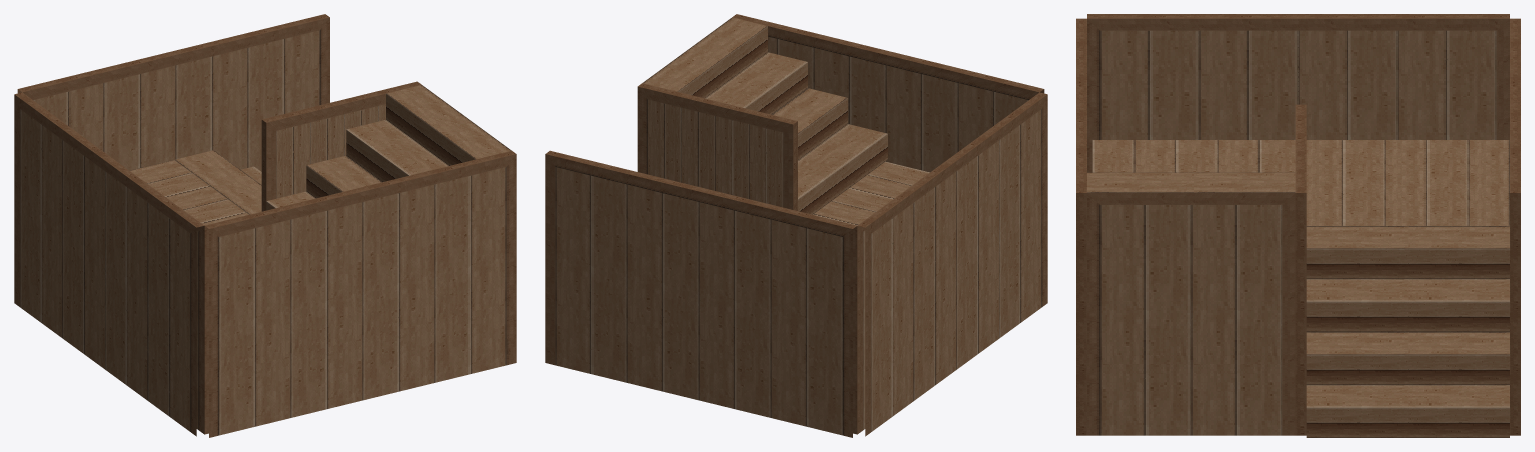
Rendered from kaidan_03.fbx.
The picture shows the model from 3 angles, left to right: view 1: azimuth 30°, elevation 25°; view 2: azimuth 150°, elevation 25°; view 3: azimuth 270°, elevation 25°; orthographic projection. The views are drawn at different scales.
Visible parts, largest first — view 1: kaidan_03; view 2: kaidan_03; view 3: kaidan_03.
Boxes of the visible parts, x1=… form: kaidan_03: x1=14, y1=14, x2=516, y2=437; kaidan_03: x1=545, y1=14, x2=1047, y2=437; kaidan_03: x1=1076, y1=14, x2=1520, y2=437.
Size of the model in its own units: 800 by 500 by 830.
